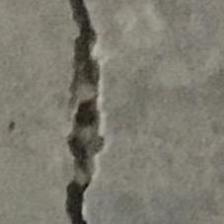Crack: (38, 1, 155, 224)
